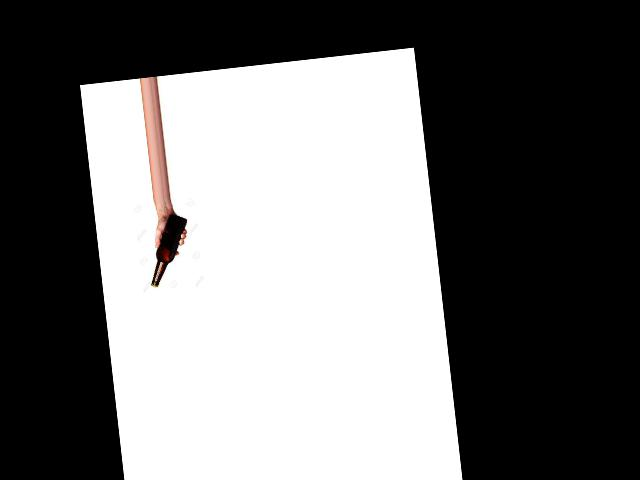beer: (142, 213, 193, 287)
